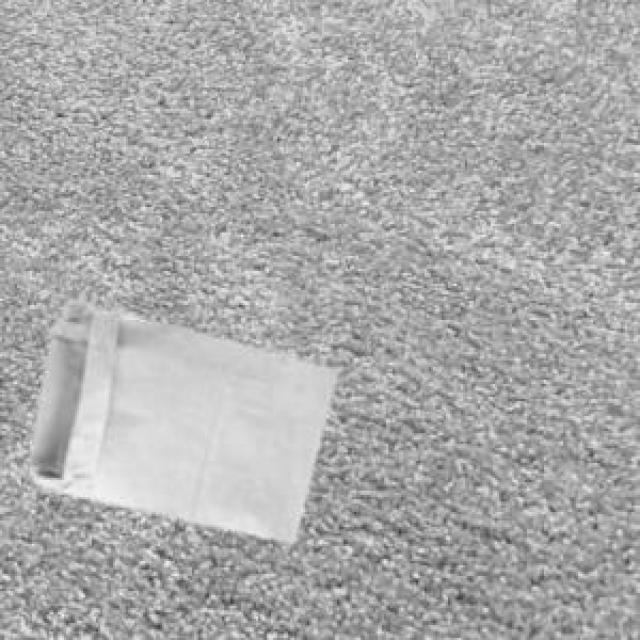paper: (28, 299, 333, 538)
